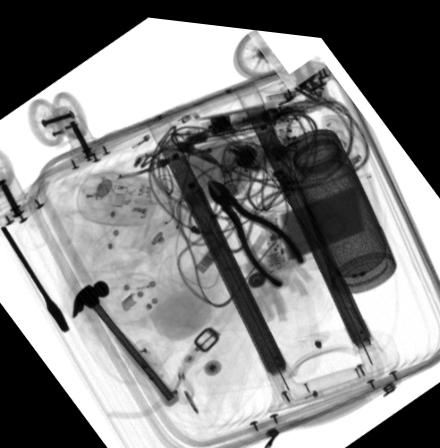Hammer: (72, 276, 179, 404)
Pliers: (205, 175, 306, 284)
Powerbank: (258, 177, 368, 261)
Wrench: (0, 225, 68, 332)
